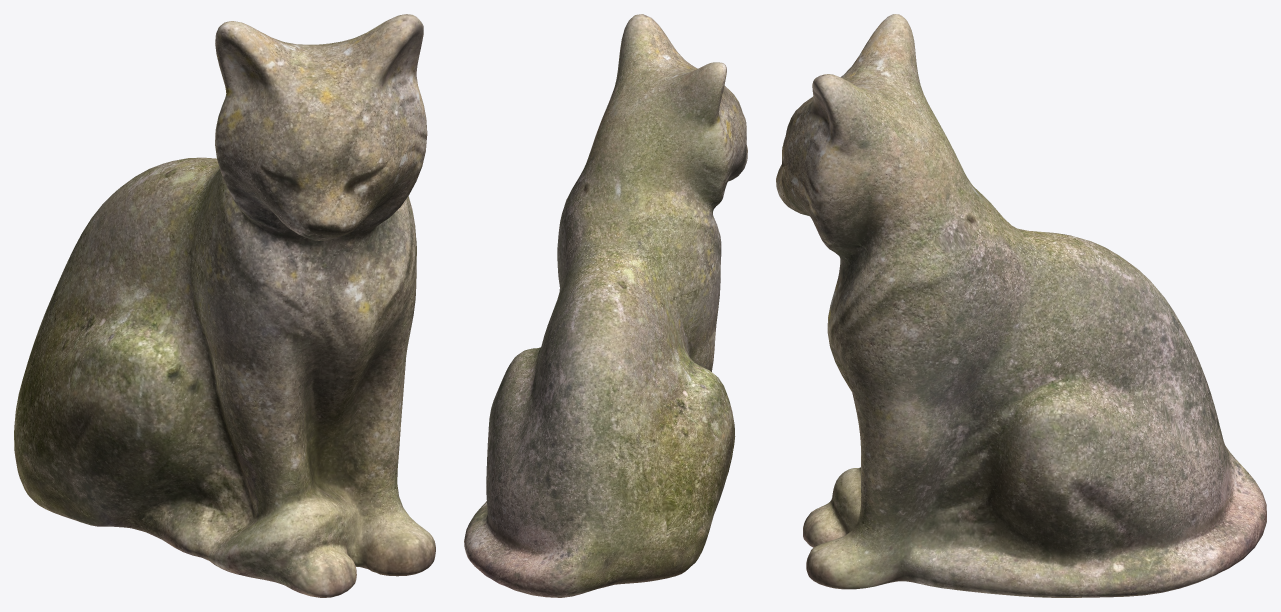
File: concrete_cat_statue.glb
The picture shows the model from 3 angles, left to right: view 1: azimuth 30°, elevation 25°; view 2: azimuth 150°, elevation 25°; view 3: azimuth 270°, elevation 25°; orthographic projection. The views are drawn at different scales.
Parts seen in each view (by area): view 1: concrete_cat_statue; view 2: concrete_cat_statue; view 3: concrete_cat_statue.
Boxes of the visible parts, left/top/right/bottom form: concrete_cat_statue: left=14, top=14, right=435, bottom=597; concrete_cat_statue: left=464, top=14, right=747, bottom=597; concrete_cat_statue: left=776, top=14, right=1266, bottom=597.
Size of the model in its own units: 1.51 by 2.8 by 2.47.
Materials: 1 (1 with a texture image).
